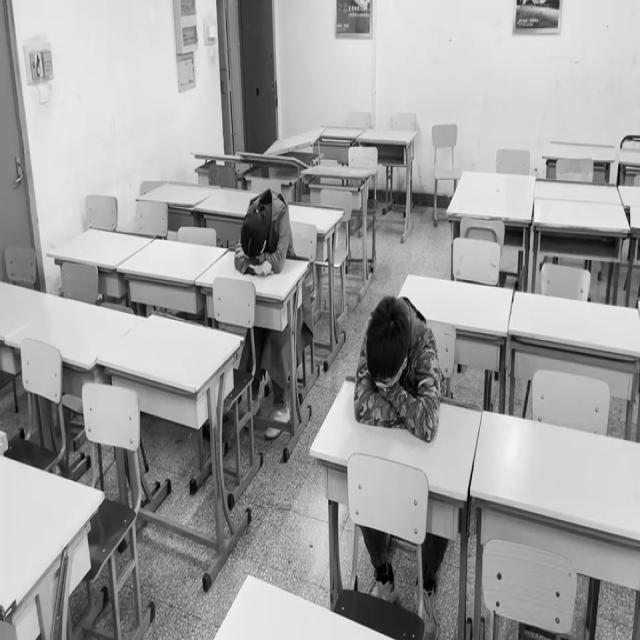sleep: (354, 305, 441, 440), (235, 193, 285, 268)
